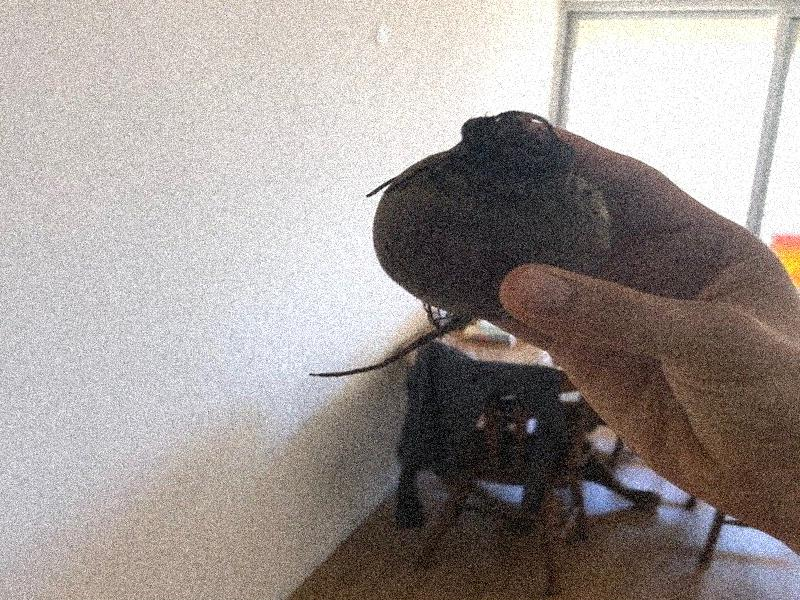Beet: (309, 111, 610, 377)
